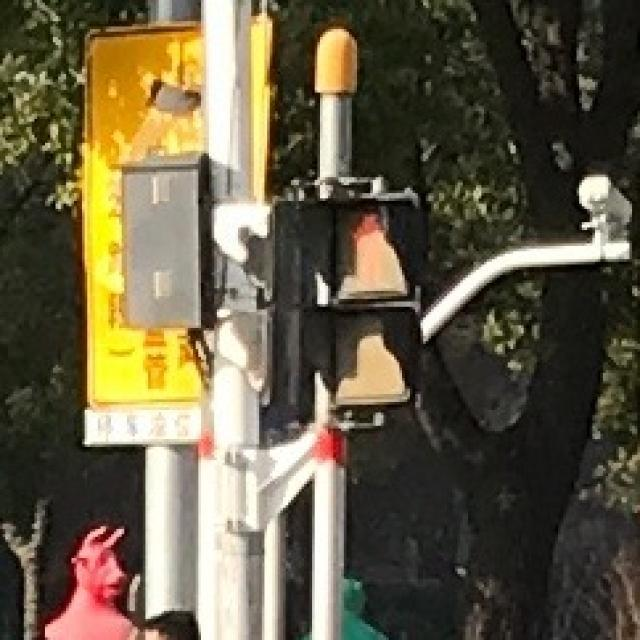red-crossing: (322, 196, 402, 291)
